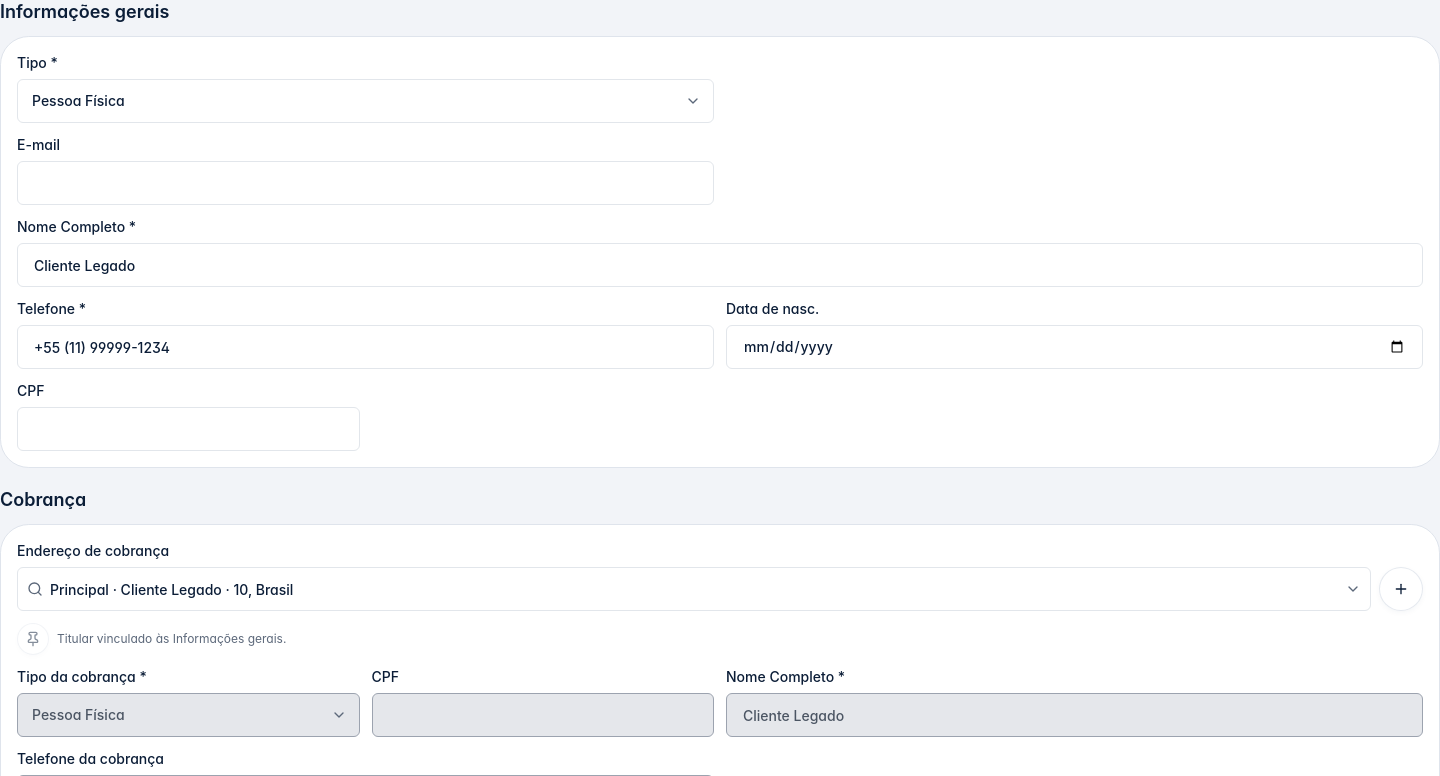
Test: preserva dados legados e fixa Principal enquanto remove só a cobrança escolhida com confirmação
Expected: the field labelled "Nome Completo *" below "E-mail" holds "Cliente Legado", [17,243,1423,287]
Replace the text in the field labelled "Telefone *" with "+55 (21) 99999-1234" at (366, 347), box [17,325,714,369]
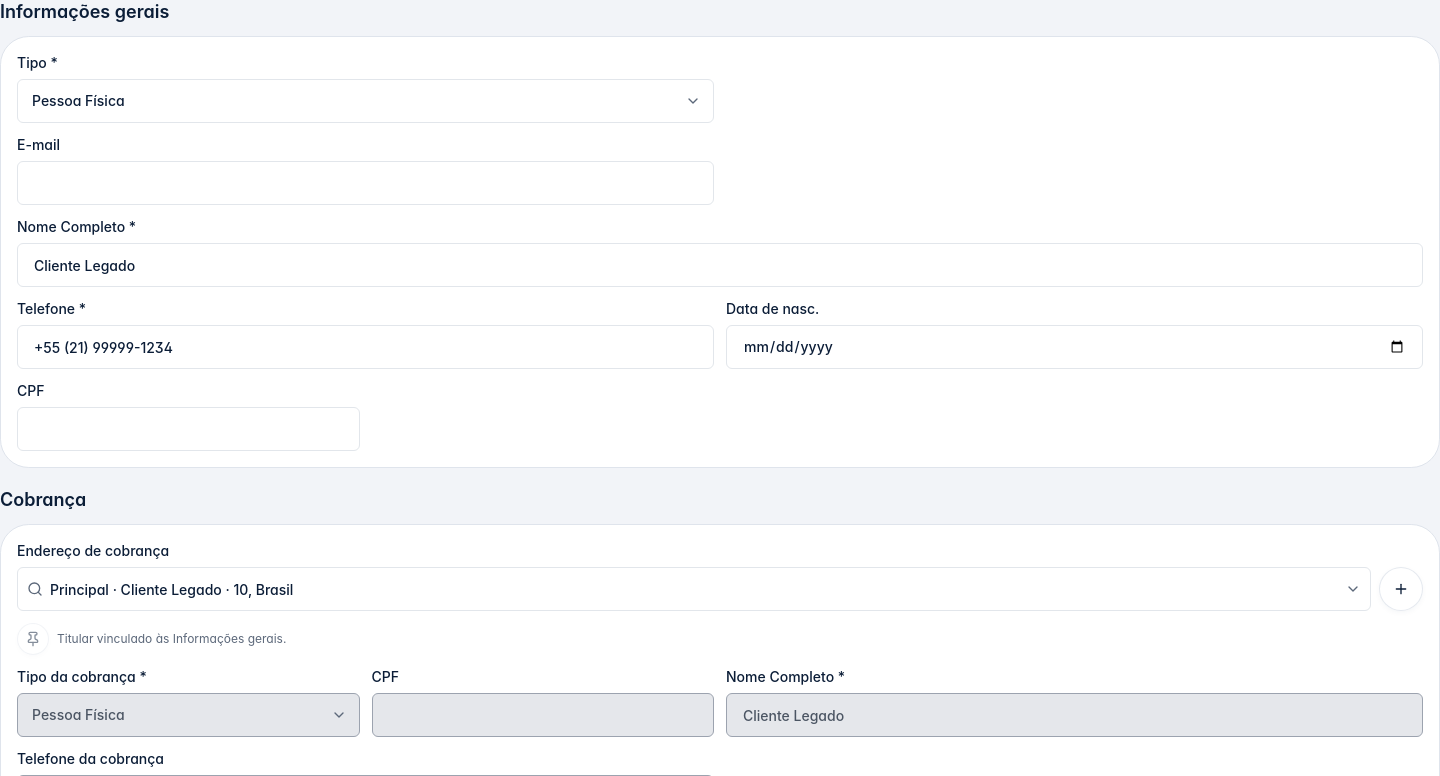
Click the dropdown labelled "Endereço de cobrança" at (694, 589), box [17,567,1371,611]
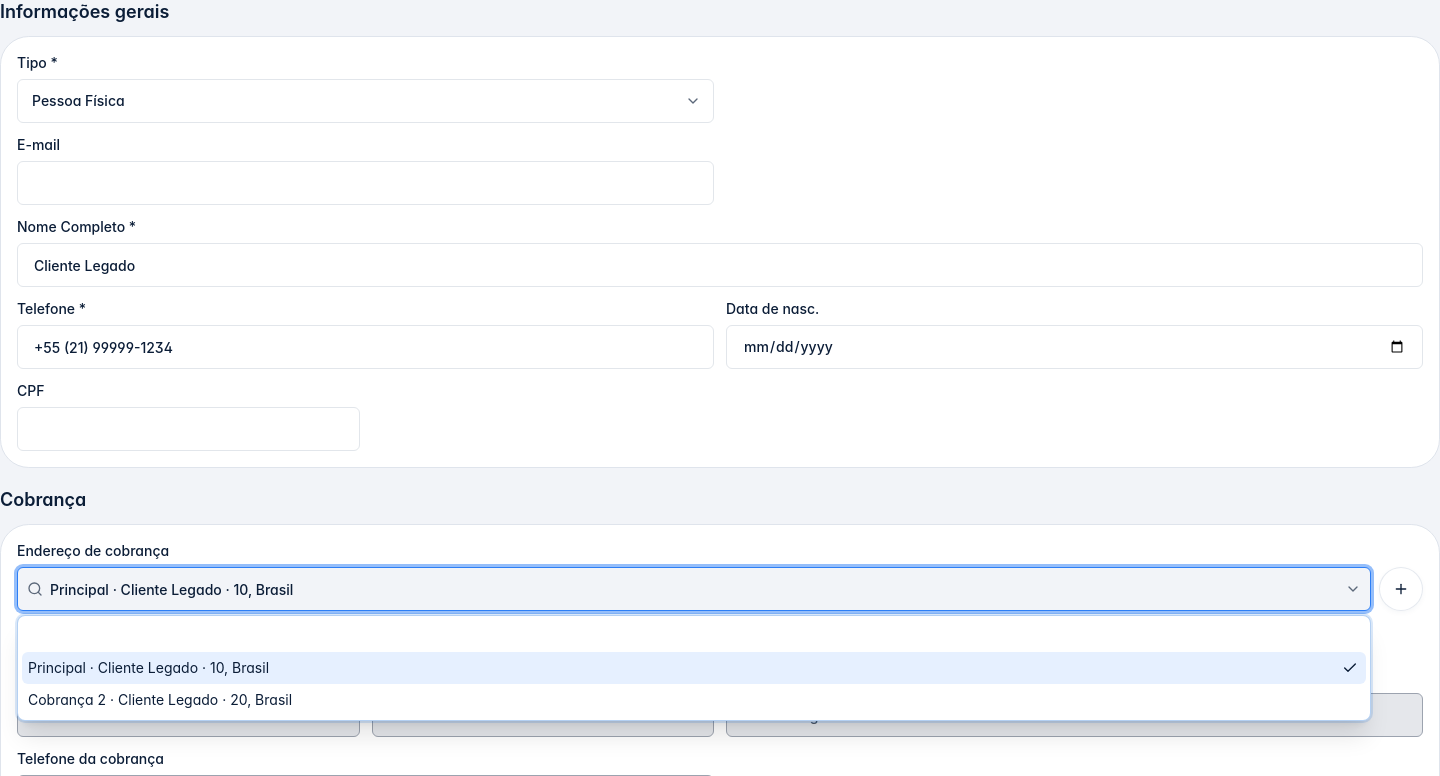
Click the option "Cobrança 2 · Cliente Legado · 20, Brasil" at (160, 700), box [28,691,292,708]
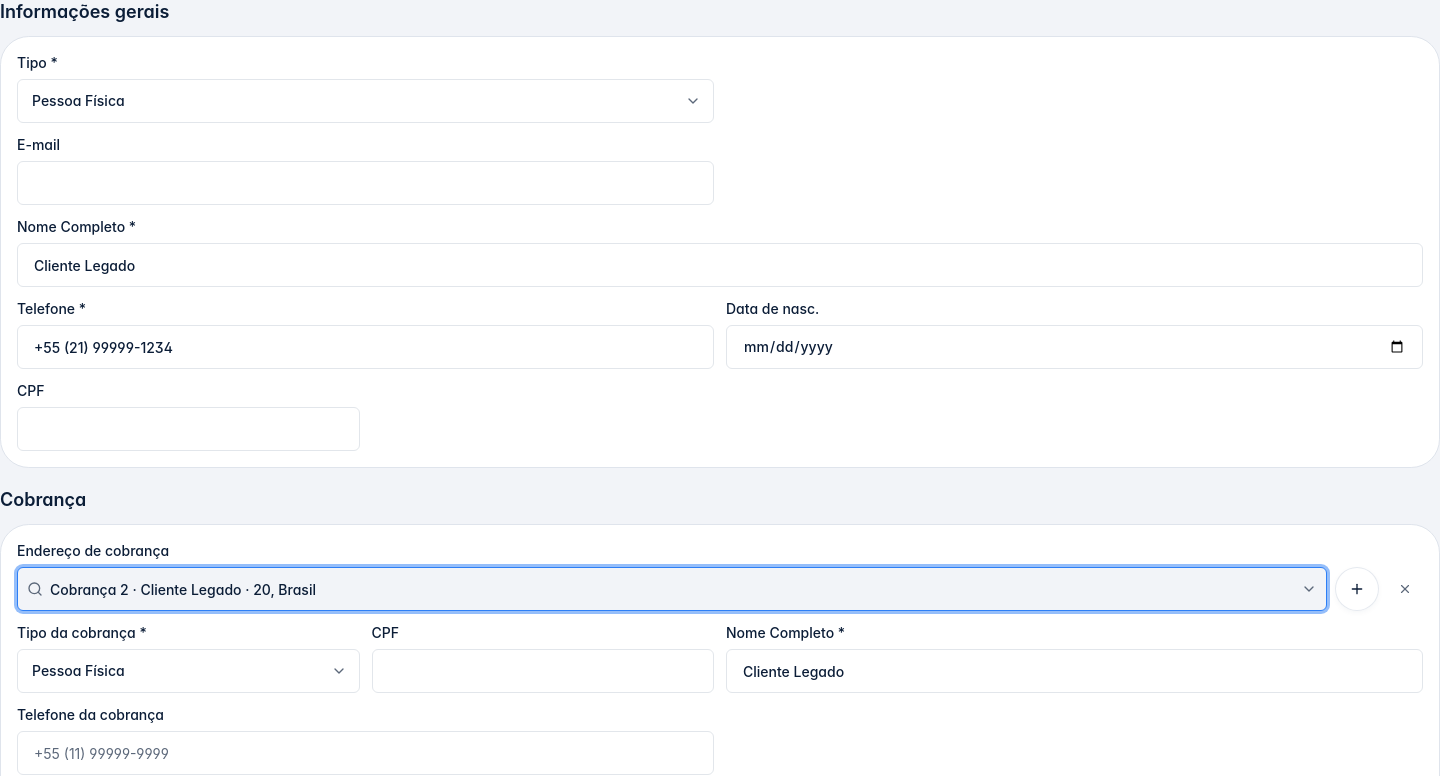
Click the button named "Remover cobrança 2" at (1405, 589), box [1387,571,1423,607]
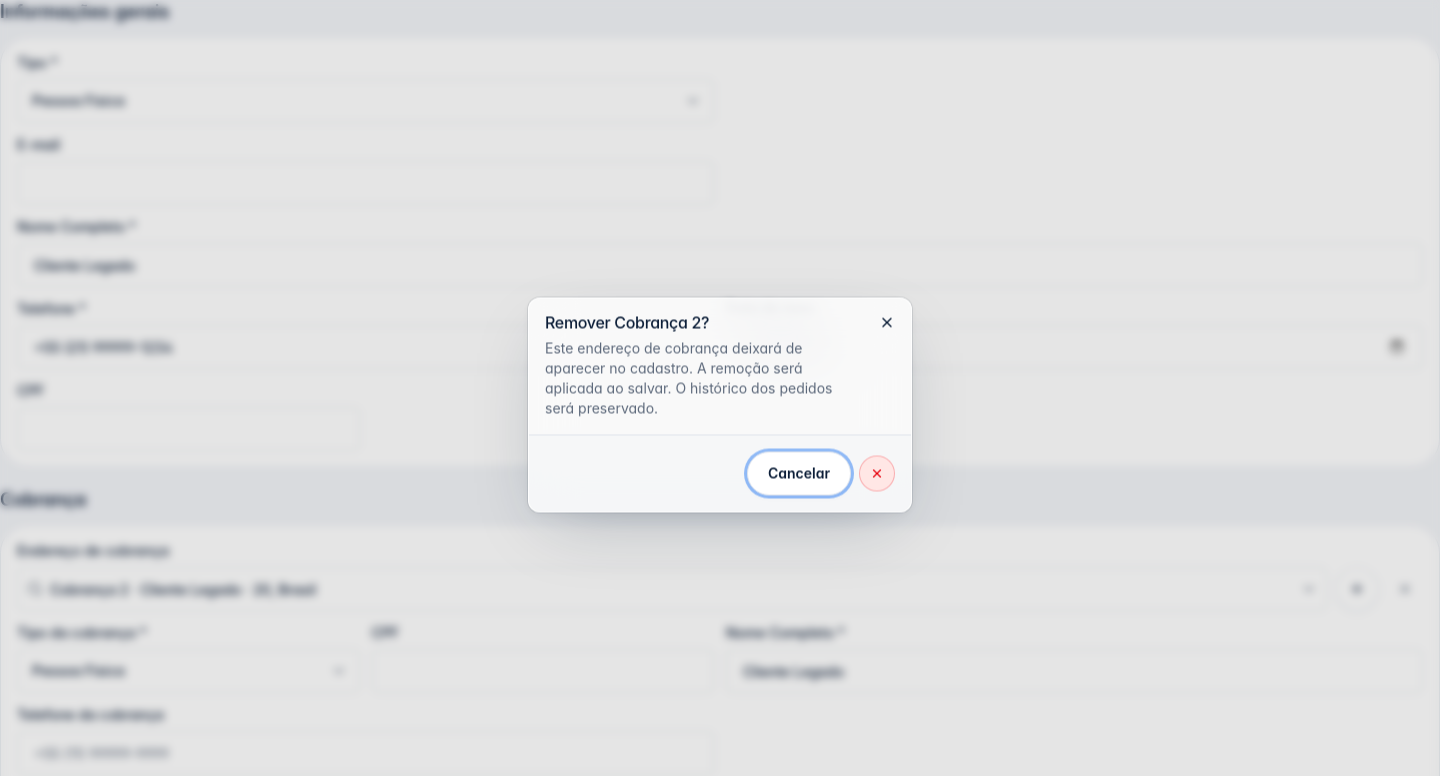
Click the button named "Confirmar remoção de Cobrança 2" at (877, 474), box [859,456,895,492]
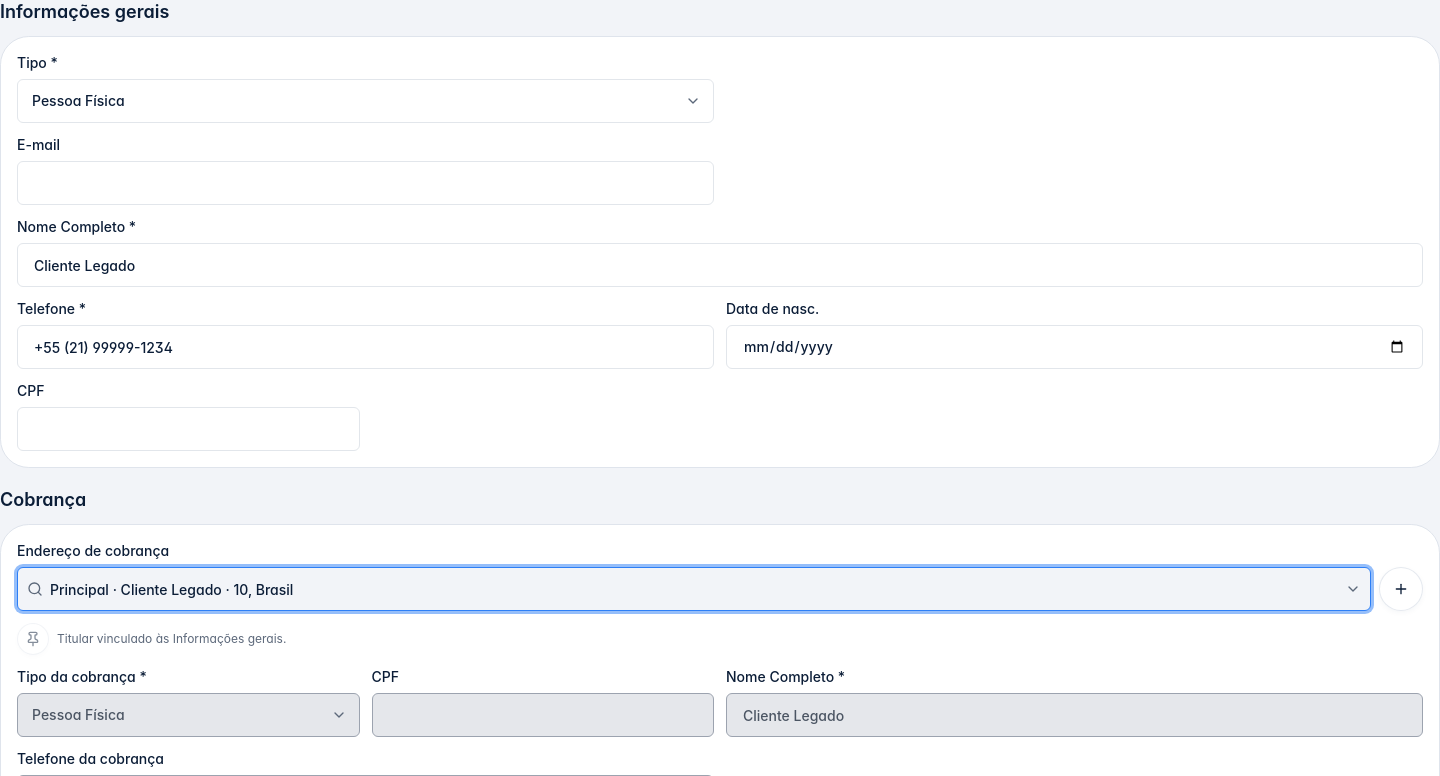
Now the heading "Remover Cobrança" is gone
